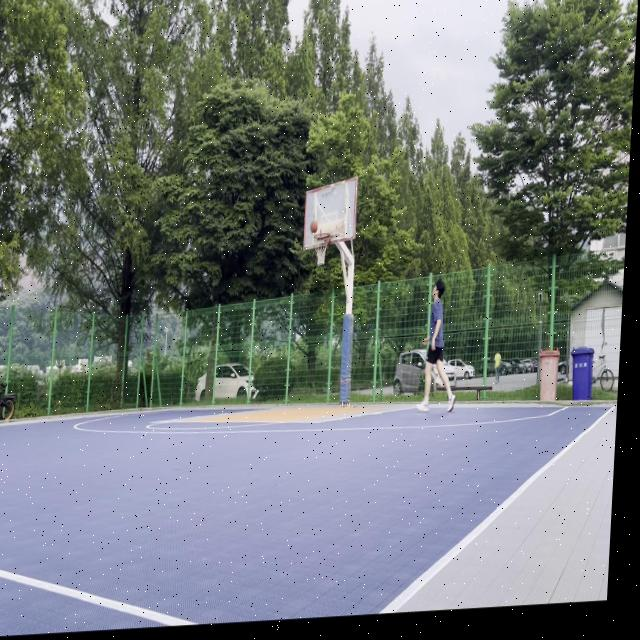basketball: (310, 220, 319, 234)
hoop: (311, 232, 331, 268)
